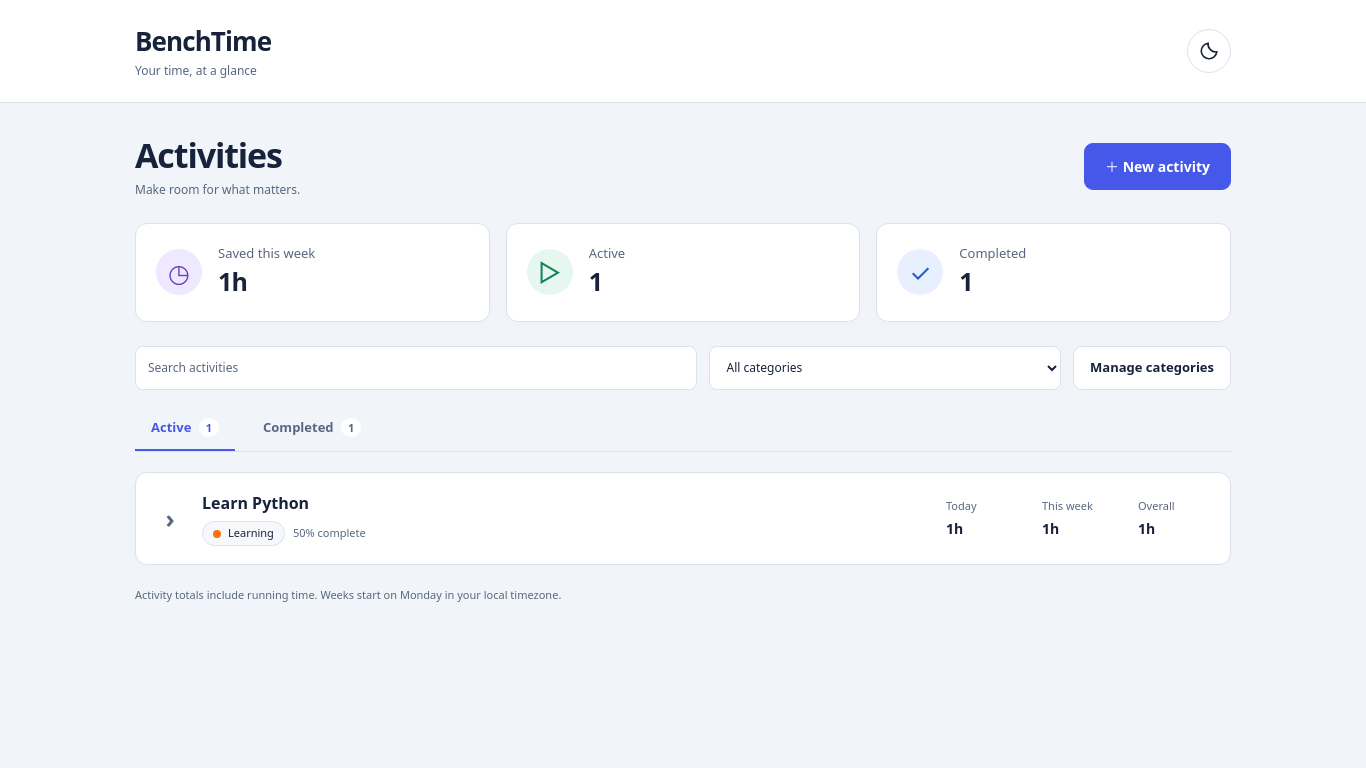
Test: completes and reopens an activity through the status views
Click the button with class "disclosure": click(170, 518) [148,496,192,540]
(page scrolled)
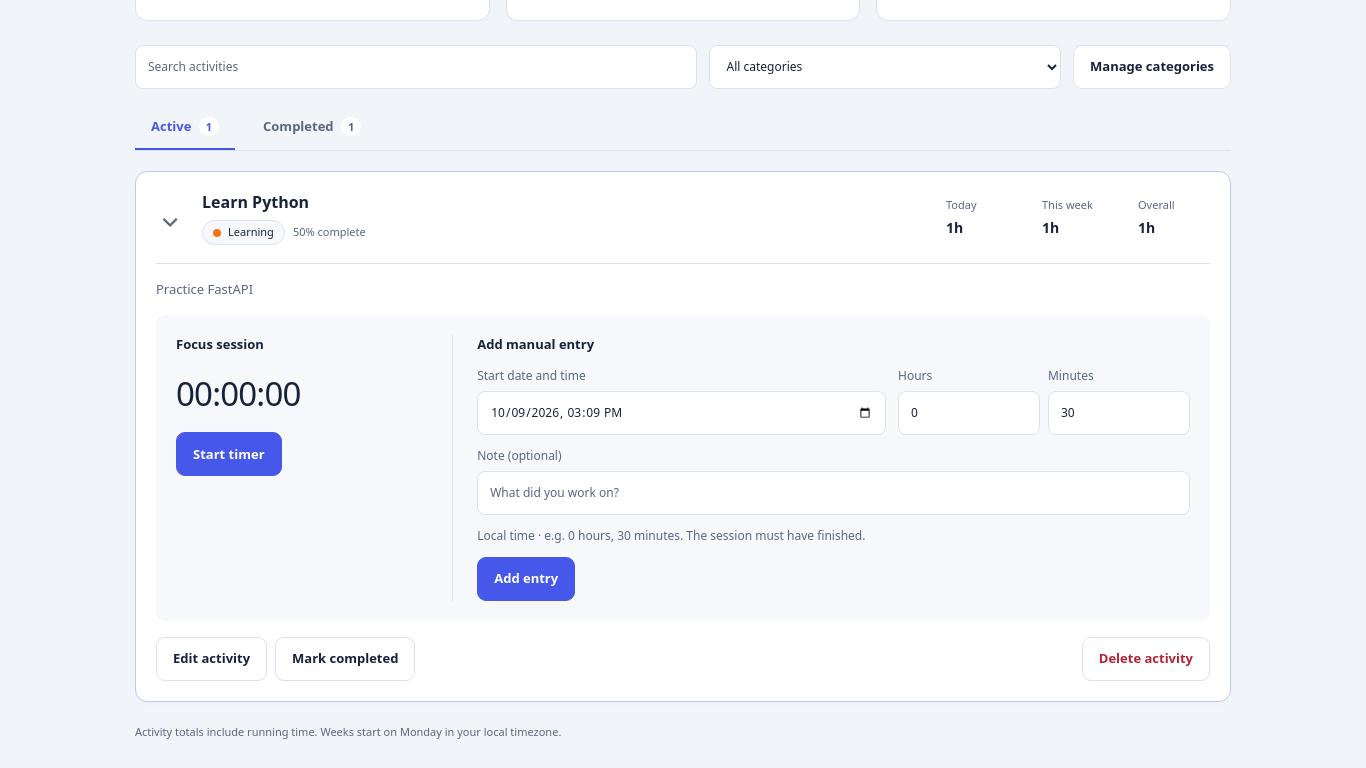
Click the button "Mark completed": click(345, 659) [275,637,415,681]
(page scrolled)
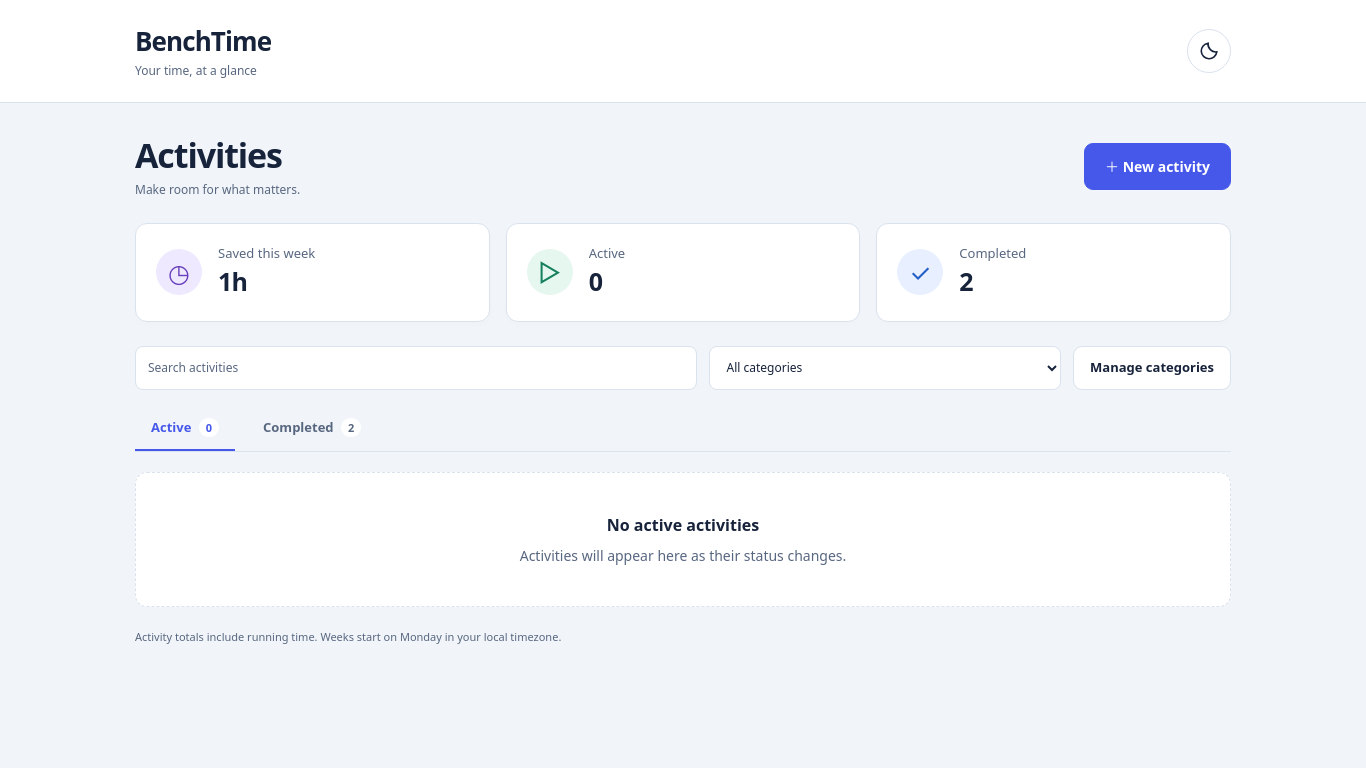
Result: the text "0" in the row of "1h" is shown at [589,264,602,298]
Click the button "Completed 2": click(312, 429) [247,406,377,451]
(page scrolled)
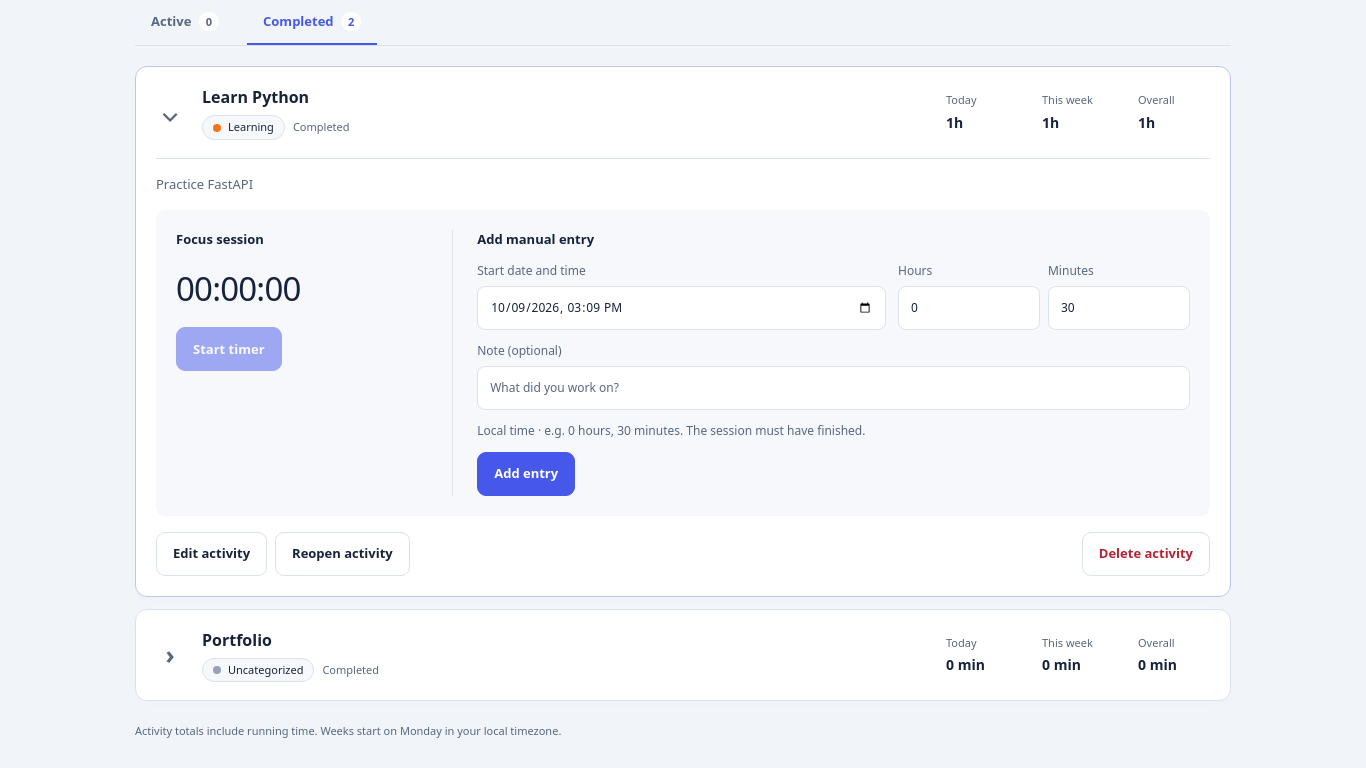
Click the button "Reopen activity": click(342, 554) [275,532,410,576]
(page scrolled)
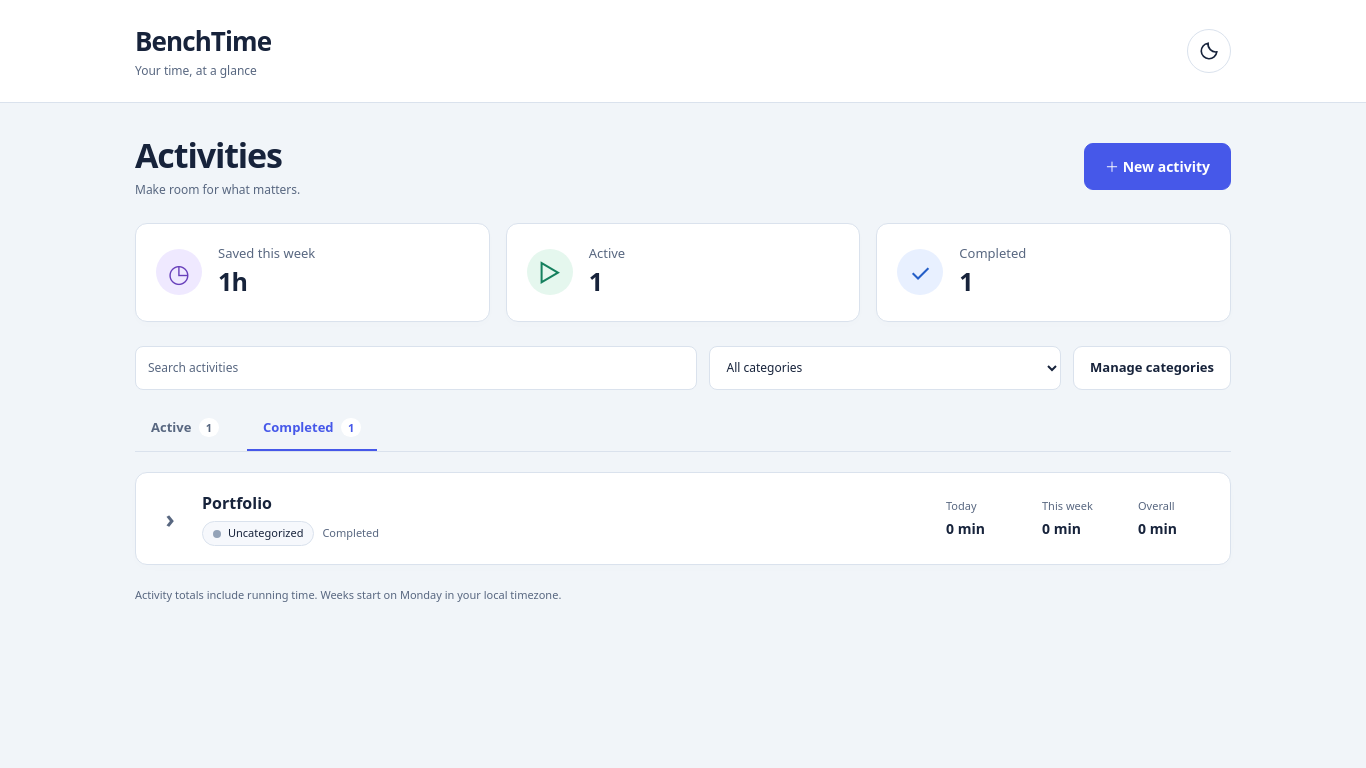
Result: the 1st text "1" is shown at [589,264,602,298]
